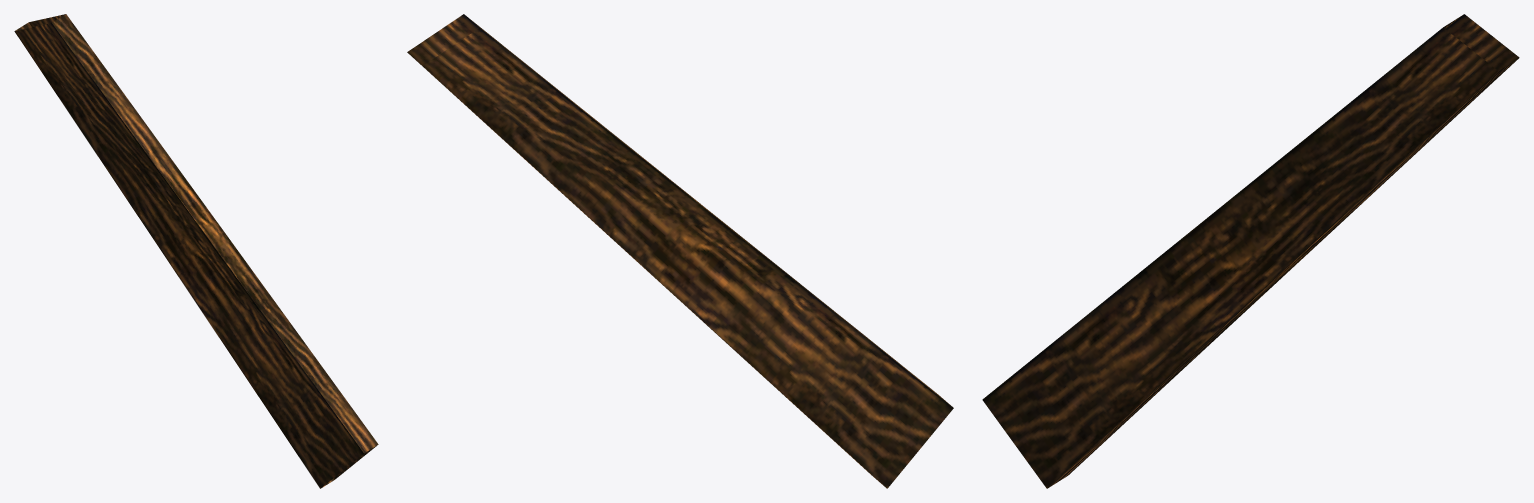
File: OVERHILL_A_01_BOX90.fbx
3 renders of one model, left to right at view 1: azimuth 90°, elevation 25°; view 2: azimuth 150°, elevation 25°; view 3: azimuth 270°, elevation 25°, orthographic. The views are drawn at different scales.
Parts seen in each view (by area): view 1: OVERHILL_A_01_BOX90; view 2: OVERHILL_A_01_BOX90; view 3: OVERHILL_A_01_BOX90.
Part boxes in pixels (box(x1,y1,x2,y2)): OVERHILL_A_01_BOX90: box(14, 14, 378, 488); OVERHILL_A_01_BOX90: box(407, 14, 953, 488); OVERHILL_A_01_BOX90: box(982, 14, 1519, 488).
Bounding box in the file's own units: 3823 × 6383 × 5412.
1 material, 1 textured.
